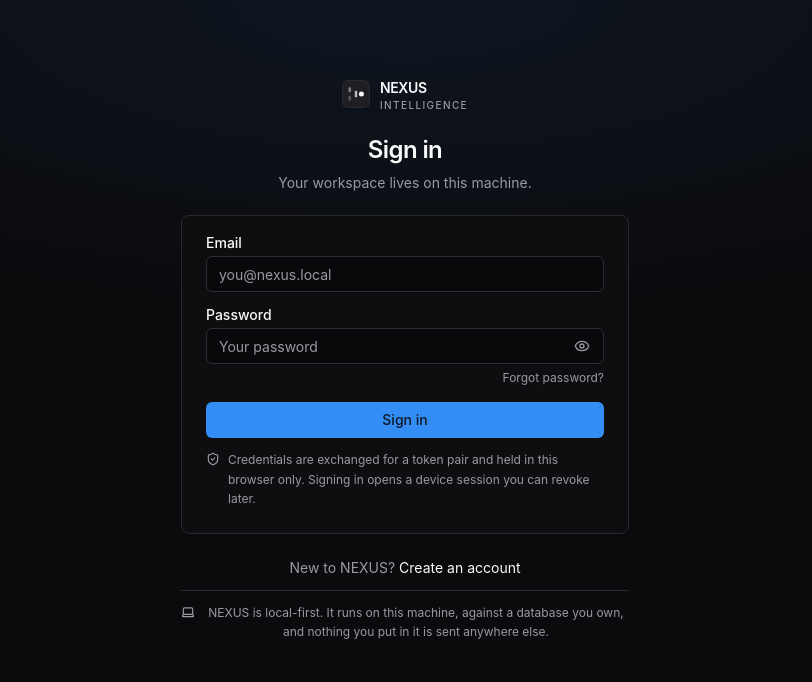
Test: LoginPage › rejects an empty submit inline, without a round trip
Expected: the text "Enter your email address." is not shown
Click the button "Sign in" at (405, 420), box [206, 402, 604, 438]
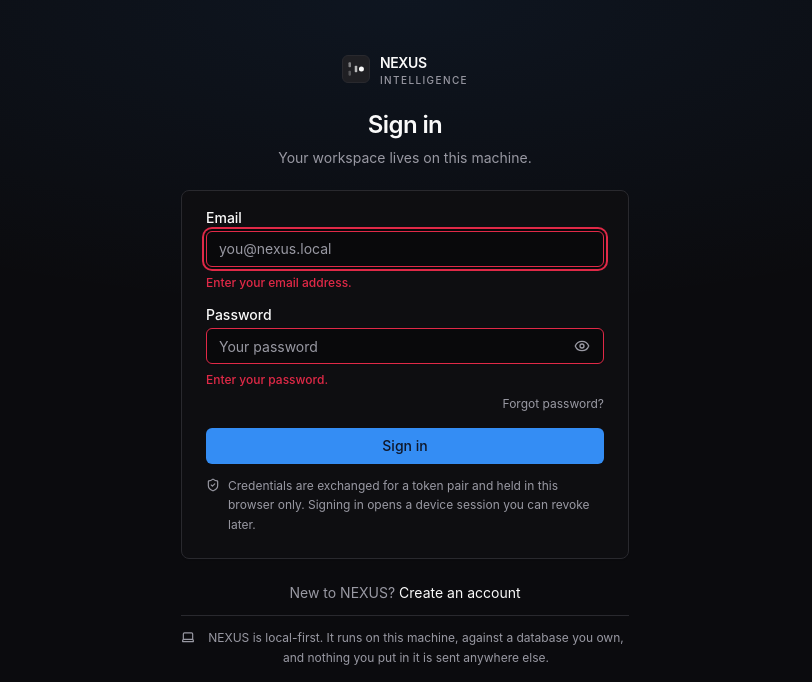
Now the text "Enter your email address." is shown, box [206, 275, 352, 290]
Now the text "Enter your password." is shown, box [206, 372, 328, 387]
